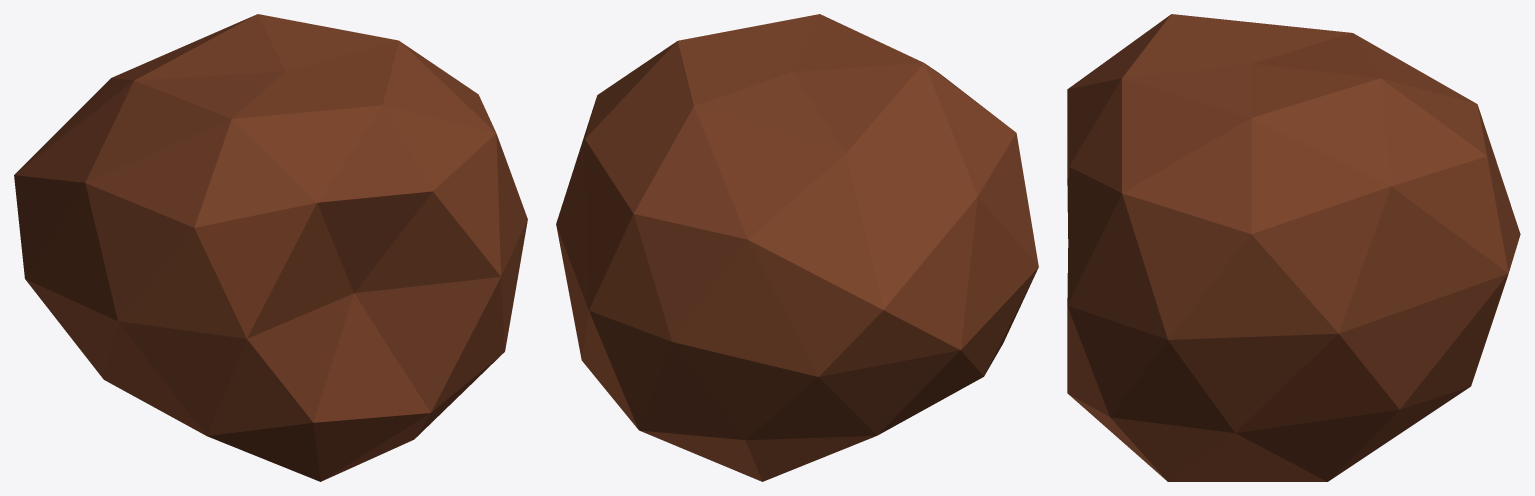
File: Little_Rock.fbx
3 renders of one model, left to right at view 1: azimuth 30°, elevation 25°; view 2: azimuth 150°, elevation 25°; view 3: azimuth 270°, elevation 25°, orthographic. The views are drawn at different scales.
Parts seen in each view (by area): view 1: Icosphere; view 2: Icosphere; view 3: Icosphere.
Boxes of the visible parts, <box> form: Icosphere: <box>14,14,527,481</box>; Icosphere: <box>556,14,1038,481</box>; Icosphere: <box>1067,14,1520,481</box>.
Bounding box in the file's own units: 11.33 × 10.1 × 10.32.
